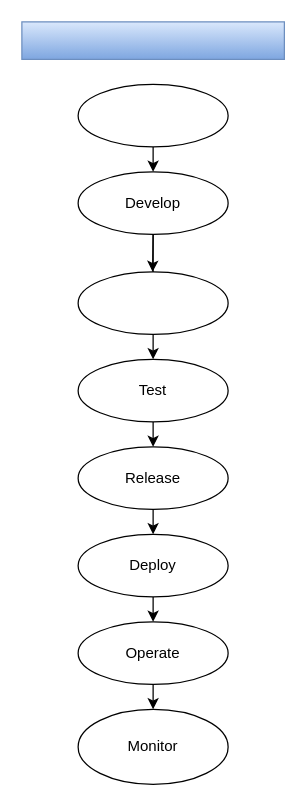
Some shapes in this 306 by 806 pixel diagram are drawn without their labels. The shapes that lost their labels are listed below. From the top down, each one's box as (x1, y1, x2, y2) in pixels, then its label:
(21, 21, 284, 59): DevOps Lifecycle - Visual Diagram
(77, 83, 228, 147): Plan
(77, 271, 228, 334): Build
